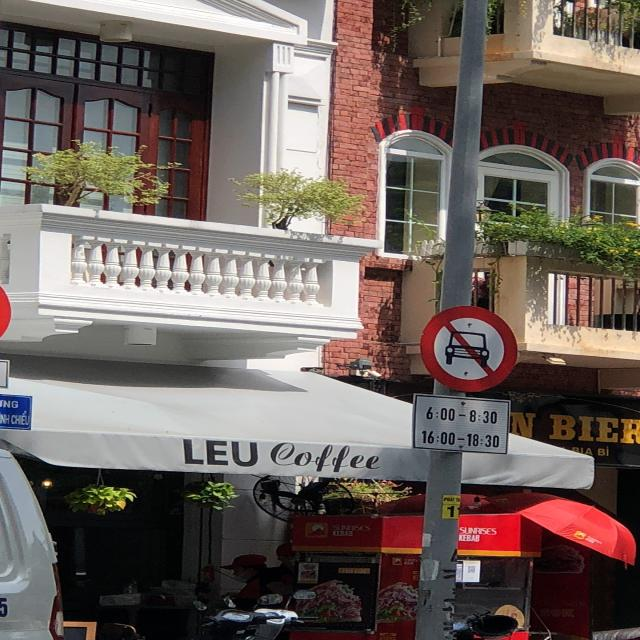Bien bao cam xe oto: (412, 303, 539, 392)
